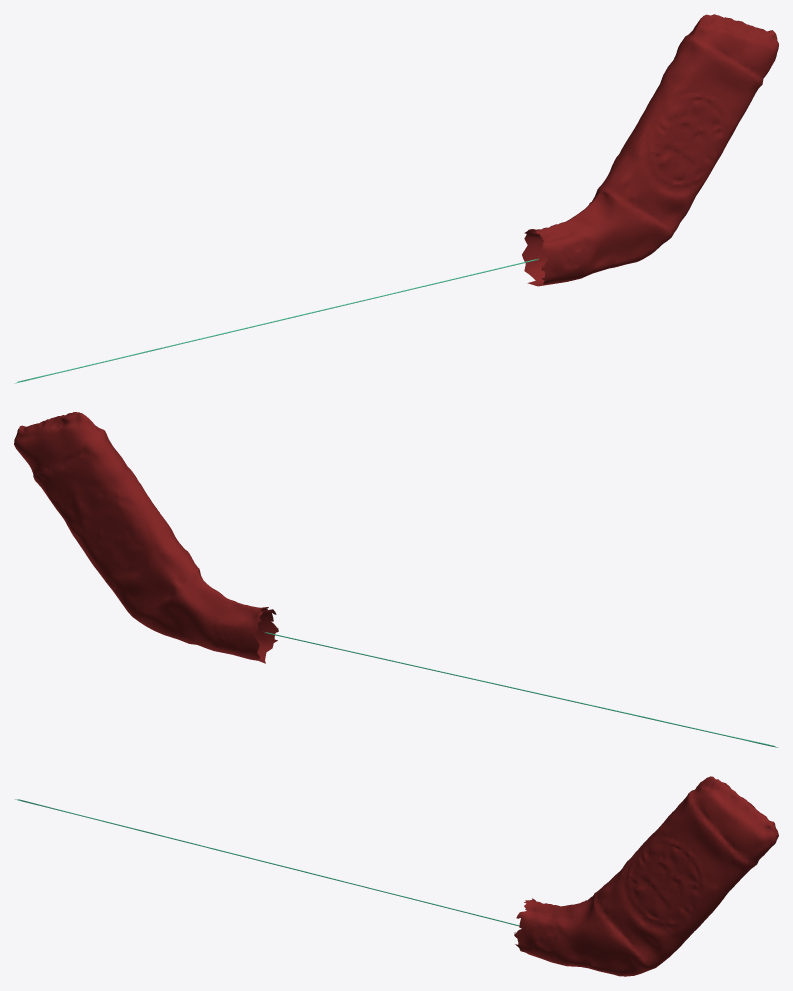
Rendered from object_deformed_0.obj.
The picture shows the model from 3 angles, top to bottom: view 1: azimuth 30°, elevation 25°; view 2: azimuth 150°, elevation 25°; view 3: azimuth 330°, elevation 25°; orthographic projection. The views are drawn at different scales.
Size of the model in its own units: 0.6065 by 0.1649 by 0.0398.
